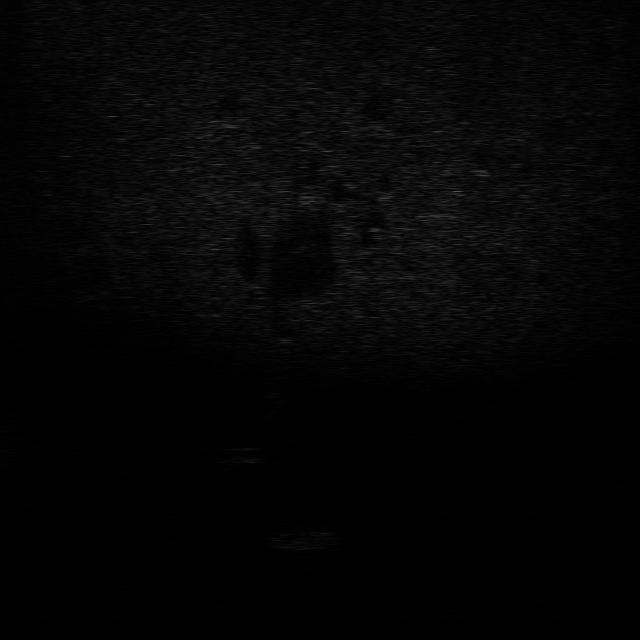ball: (224, 442, 268, 466)
circle cage: (265, 527, 341, 552)
human body: (254, 361, 288, 424)
